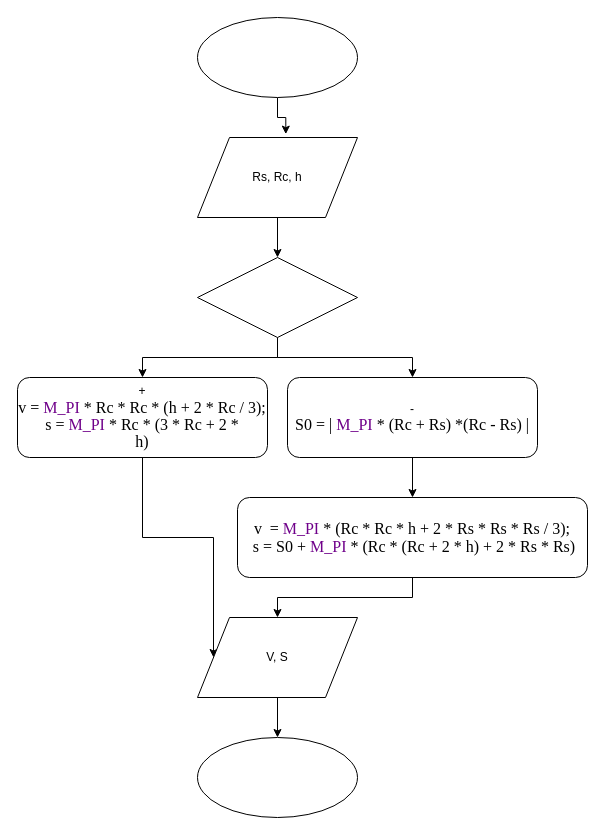
This 605x835 diagram has some shape labels left out. The shapes that lost their labels are listed below. From the top down, each one's centre as x and y in pixels, then its label:
At [277,57]: "Початок".
At [277,297]: "Rc=Rs".
At [277,777]: "Кінець".
